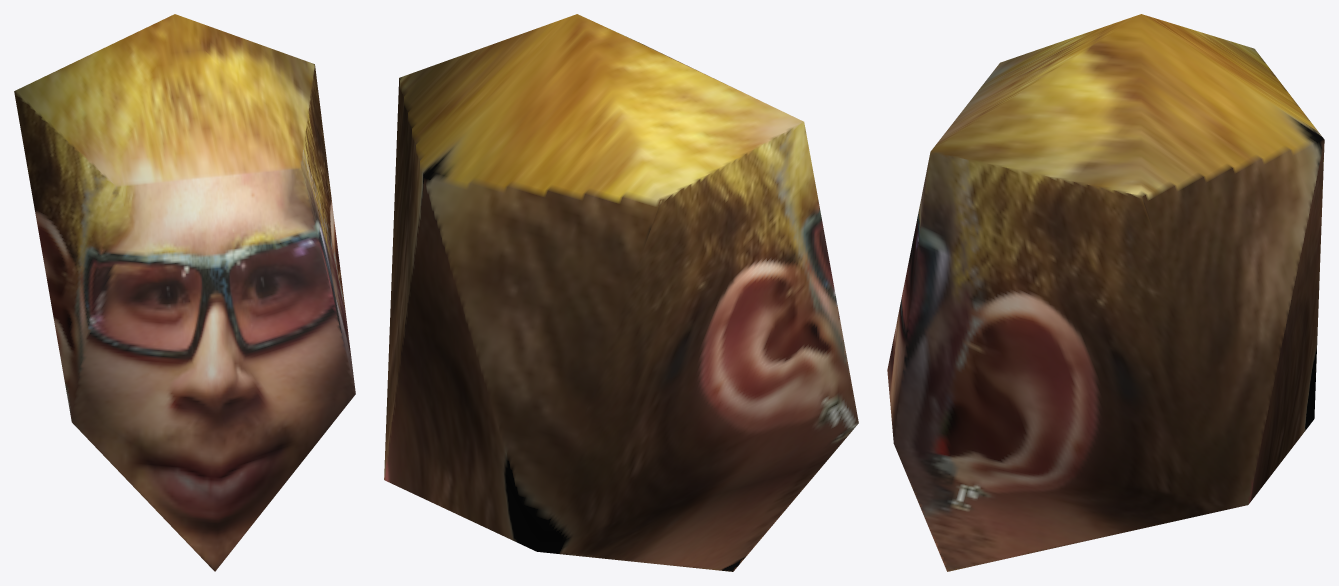
Rendered from stinkhead2.gltf.
The picture shows the model from 3 angles, left to right: view 1: azimuth 30°, elevation 25°; view 2: azimuth 150°, elevation 25°; view 3: azimuth 270°, elevation 25°; orthographic projection. The views are drawn at different scales.
Parts seen in each view (by area): view 1: Icosphere; view 2: Icosphere; view 3: Icosphere.
Boxes of the visible parts, <box> form: Icosphere: <box>14,14,355,571</box>; Icosphere: <box>384,14,858,571</box>; Icosphere: <box>887,14,1324,571</box>.
Size of the model in its own units: 5.04 by 7.79 by 5.3.
1 material, 1 textured.
